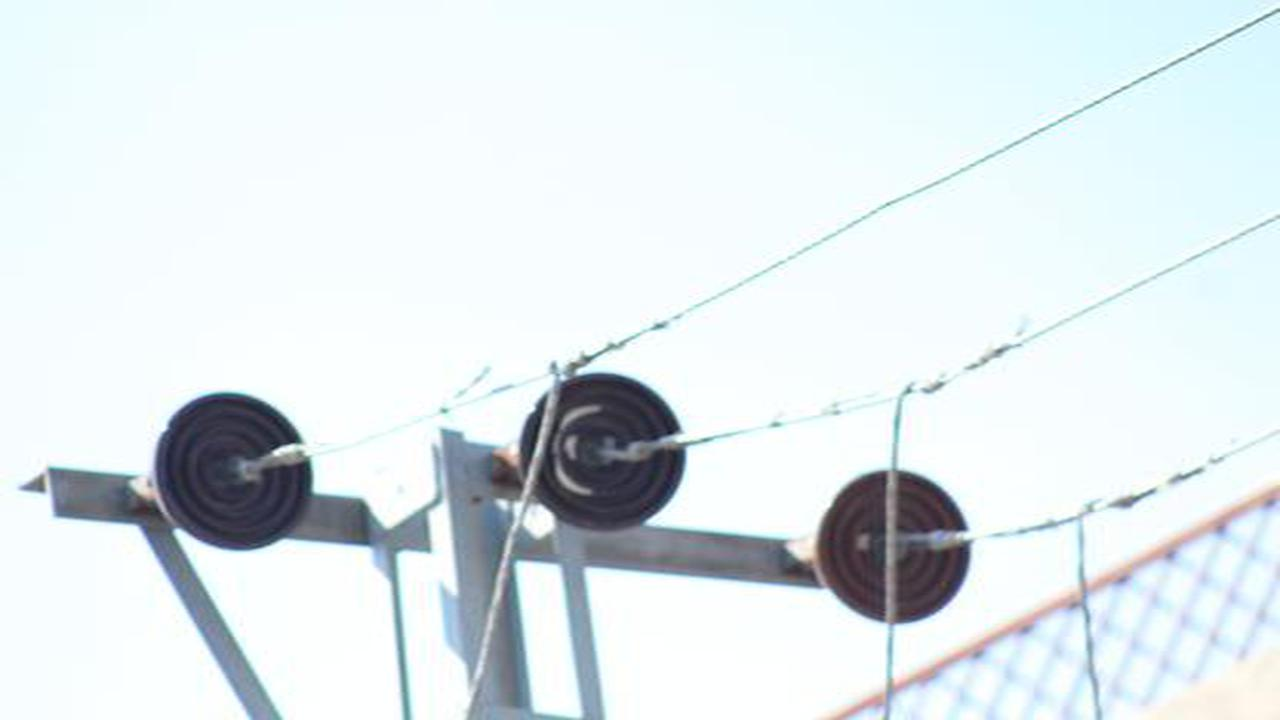insulator_disc: (515, 371, 692, 542), (150, 388, 317, 558), (810, 466, 978, 631)
